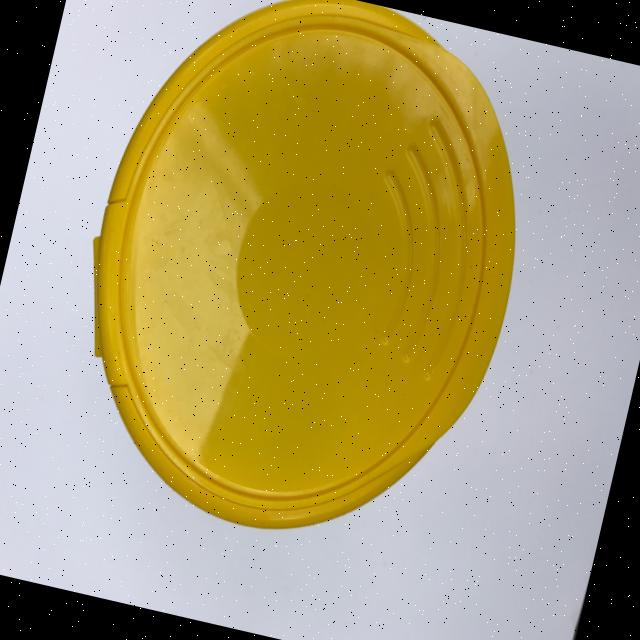plastic: (37, 0, 566, 571)
